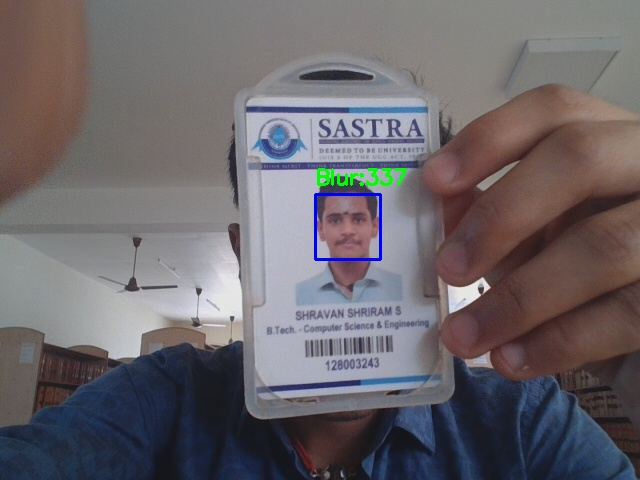fake: (315, 194, 380, 259)
